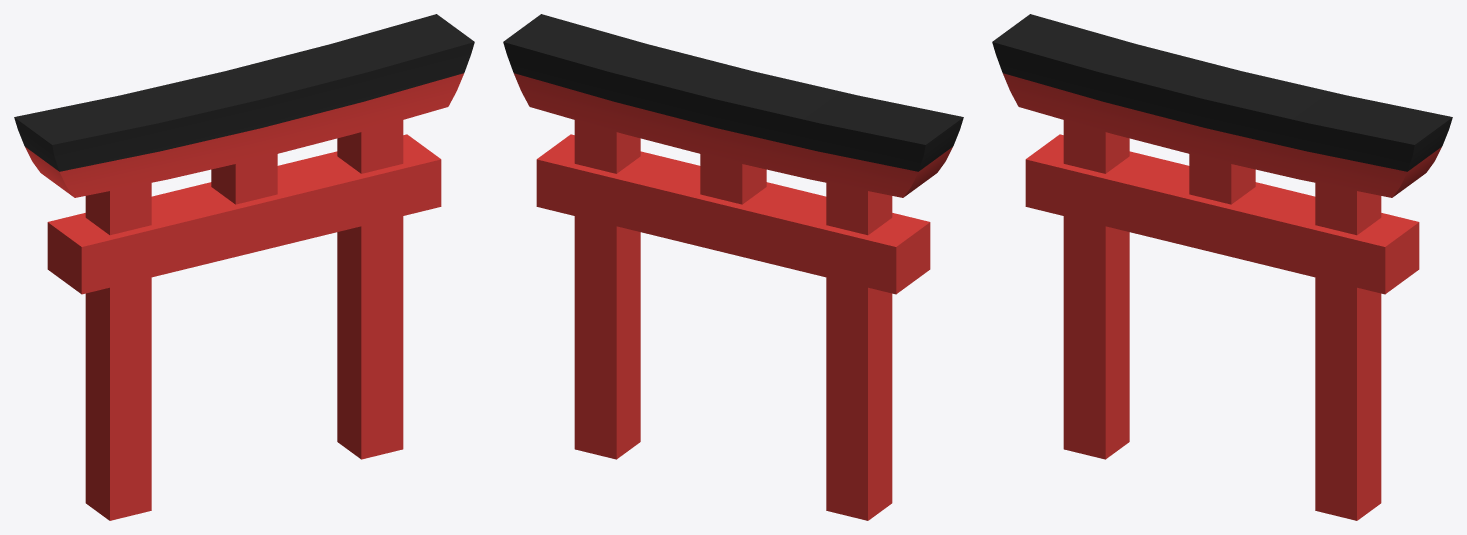
The model's file is shinto_shrine.glb.
3 renders of one model, left to right at view 1: azimuth 30°, elevation 25°; view 2: azimuth 150°, elevation 25°; view 3: azimuth 330°, elevation 25°, orthographic.
Parts seen in each view (by area): view 1: Cube.507; view 2: Cube.507; view 3: Cube.507.
Boxes of the visible parts, x1,y1,x2,y2 form: Cube.507: (14,14,474,520); Cube.507: (503,14,963,520); Cube.507: (992,14,1452,520).
Bounding box in the file's own units: 2.2 × 1.98 × 0.3446.
Materials: 1 (1 with a texture image).
